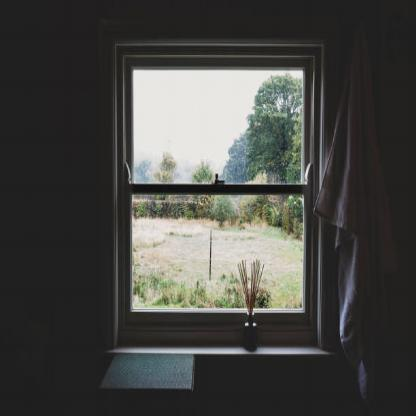Window: (114, 42, 317, 349)
